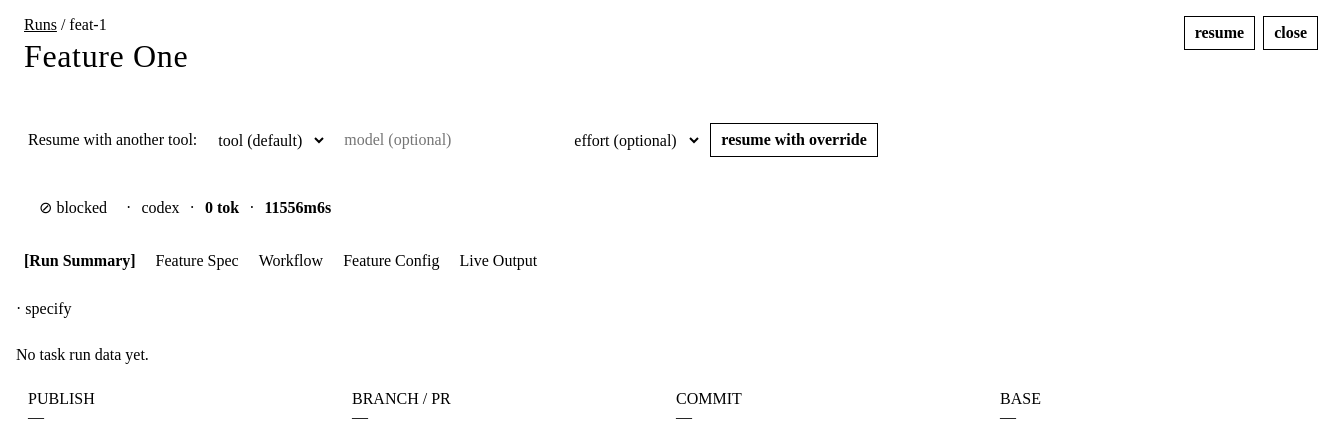
Test: RunDetailPage spec tab › falls back to a clear message when no spec was declared for the run
Step 1. Click the button "Feature Spec" → x=197, y=261, box [148,246,247,276]
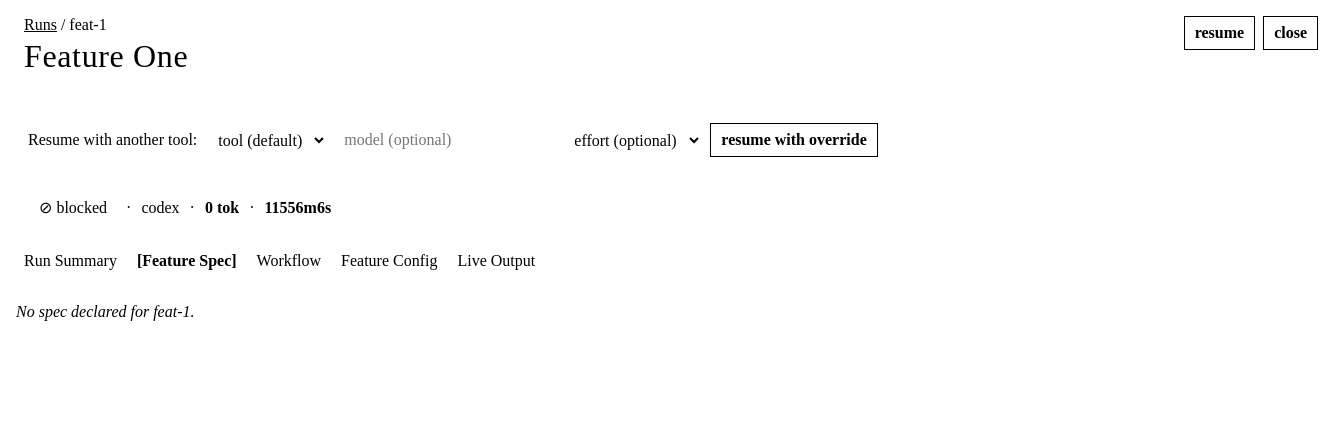
Expected: the text "No spec declared for feat-1." is shown, [16,303,194,320]
